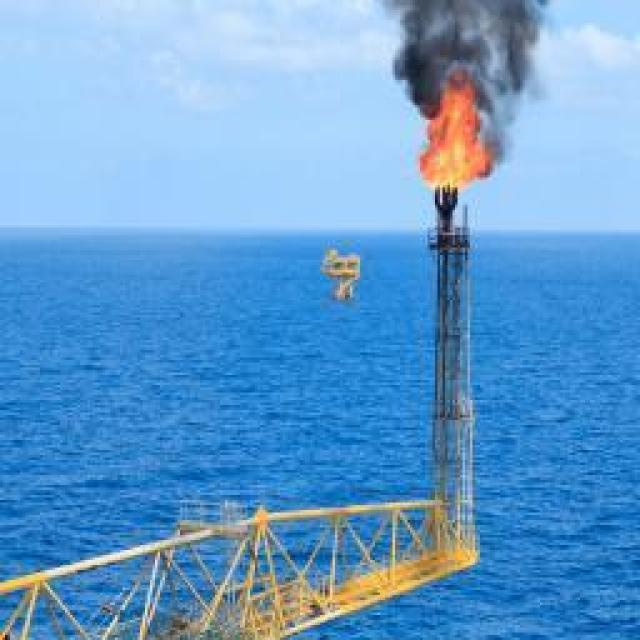fire: (417, 81, 493, 188)
smoke: (383, 0, 557, 164)
